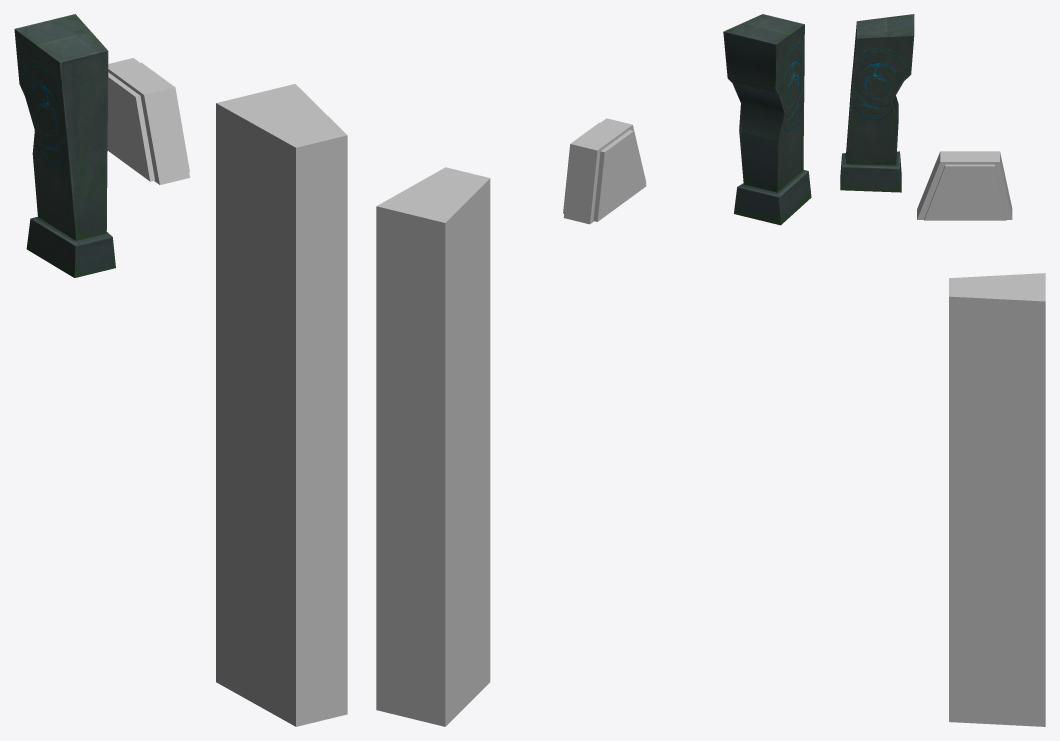
Rendered from DLD_syuantai04.FBX.
3 views of the same model, side by side, from view 1: azimuth 30°, elevation 25°; view 2: azimuth 150°, elevation 25°; view 3: azimuth 270°, elevation 25° (orthographic). The views are drawn at different scales.
Visible parts, largest first — view 1: DLD_syuantai04_001, DLD_syuantai04_002, DLD_syuantai04_003; view 2: DLD_syuantai04_001, DLD_syuantai04_002, DLD_syuantai04_003; view 3: DLD_syuantai04_001, DLD_syuantai04_002, DLD_syuantai04_003.
Part boxes in pixels (x1,y1,x2,y2): DLD_syuantai04_001: [216, 84, 347, 726]; DLD_syuantai04_002: [14, 14, 115, 277]; DLD_syuantai04_003: [107, 58, 189, 184]; DLD_syuantai04_001: [376, 167, 490, 726]; DLD_syuantai04_002: [723, 14, 811, 225]; DLD_syuantai04_003: [563, 118, 646, 224]; DLD_syuantai04_001: [949, 273, 1045, 726]; DLD_syuantai04_002: [840, 14, 914, 192]; DLD_syuantai04_003: [917, 151, 1012, 220].
Bounding box in the file's own units: 969 × 1975 × 633.
